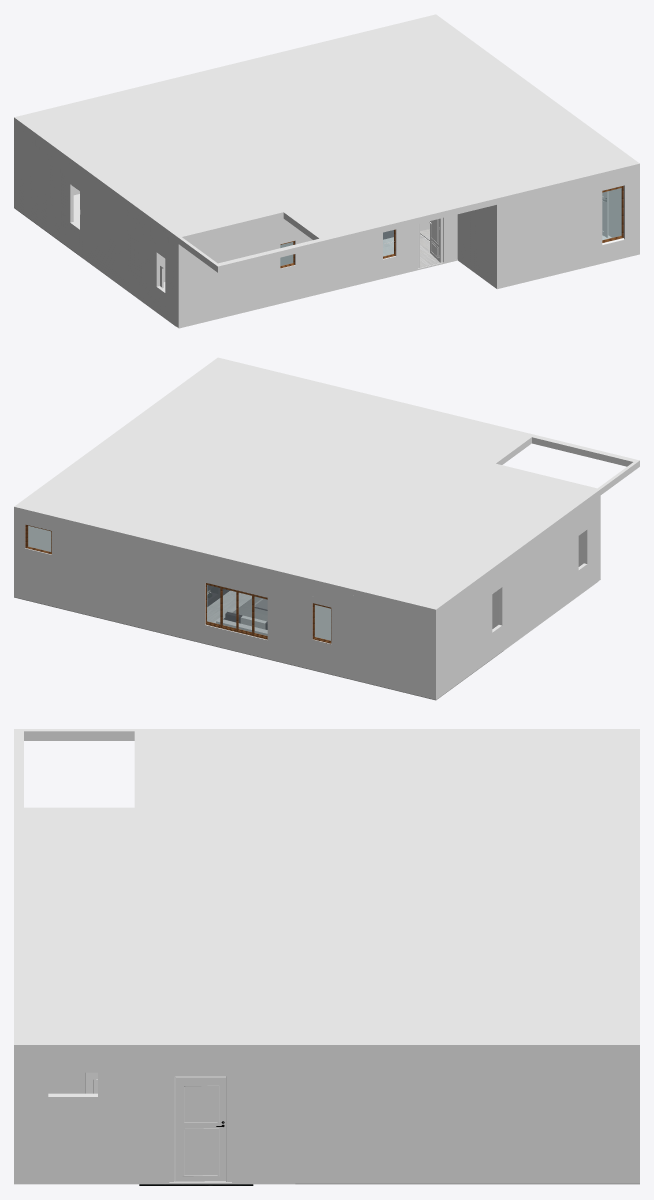
Rendered from One Bedroom Mode 1.glb.
3 renders of one model, top to bottom at view 1: azimuth 30°, elevation 25°; view 2: azimuth 150°, elevation 25°; view 3: azimuth 270°, elevation 25°, orthographic. The views are drawn at different scales.
Visible parts, largest first — view 1: pasted__polySurface4290, pCube34, pasted__polySurface214; view 2: pasted__polySurface4290, pCube40, pCube37, pasted__polySurface214, pCube36, pCube38, pCube35, pCube39; view 3: pasted__polySurface4290, pasted__polySurface4123.
Boxes of the visible parts, <box> form: pasted__polySurface4290: <box>14,14,639,328</box>; pCube34: <box>602,186,623,242</box>; pasted__polySurface214: <box>383,235,442,268</box>; pasted__polySurface4290: <box>14,357,639,700</box>; pCube40: <box>312,603,331,643</box>; pCube37: <box>236,590,252,635</box>; pasted__polySurface214: <box>207,590,251,622</box>; pCube36: <box>221,586,236,631</box>; pCube38: <box>252,594,267,639</box>; pCube35: <box>205,583,220,628</box>; pCube39: <box>25,524,51,554</box>; pasted__polySurface4290: <box>14,729,639,1184</box>; pasted__polySurface4123: <box>175,1076,226,1181</box>.
Bounding box in the file's own units: 6.4 × 1.33 × 5.35.
Materials: 55 (10 with a texture image).
